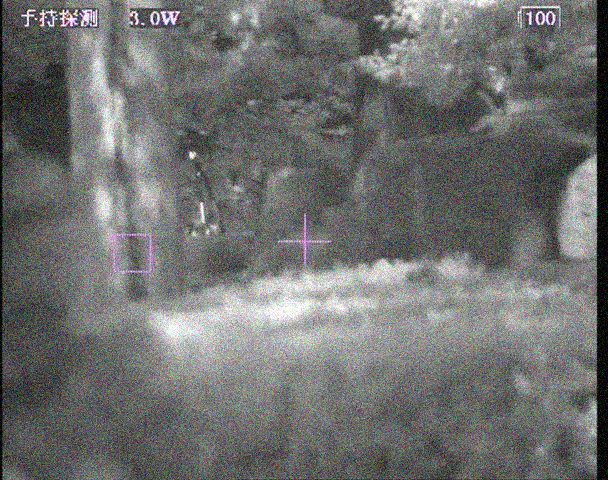my: (188, 150, 197, 160)
